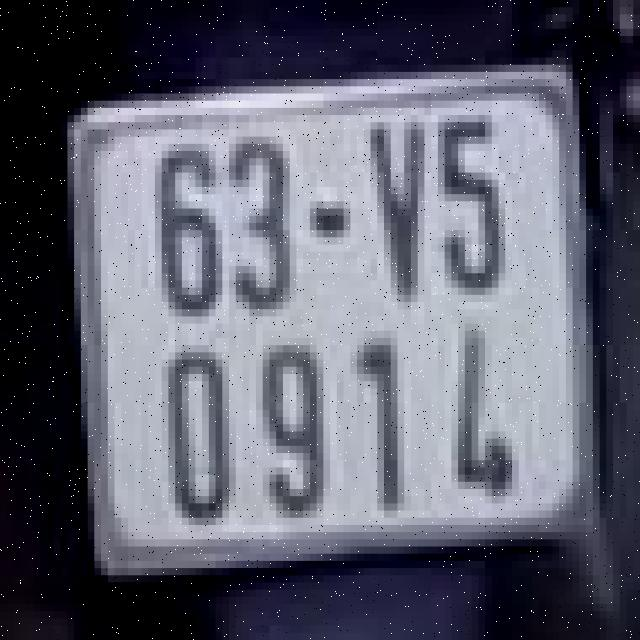0: (152, 345, 239, 539)
1: (340, 324, 414, 525)
3: (226, 119, 300, 327)
4: (438, 320, 525, 507)
5: (435, 112, 522, 298)
6: (138, 130, 233, 323)
9: (246, 331, 333, 525)
V: (354, 112, 434, 306)
